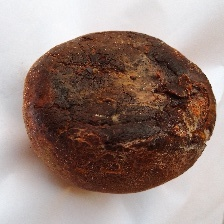guava: (5, 25, 196, 175)
